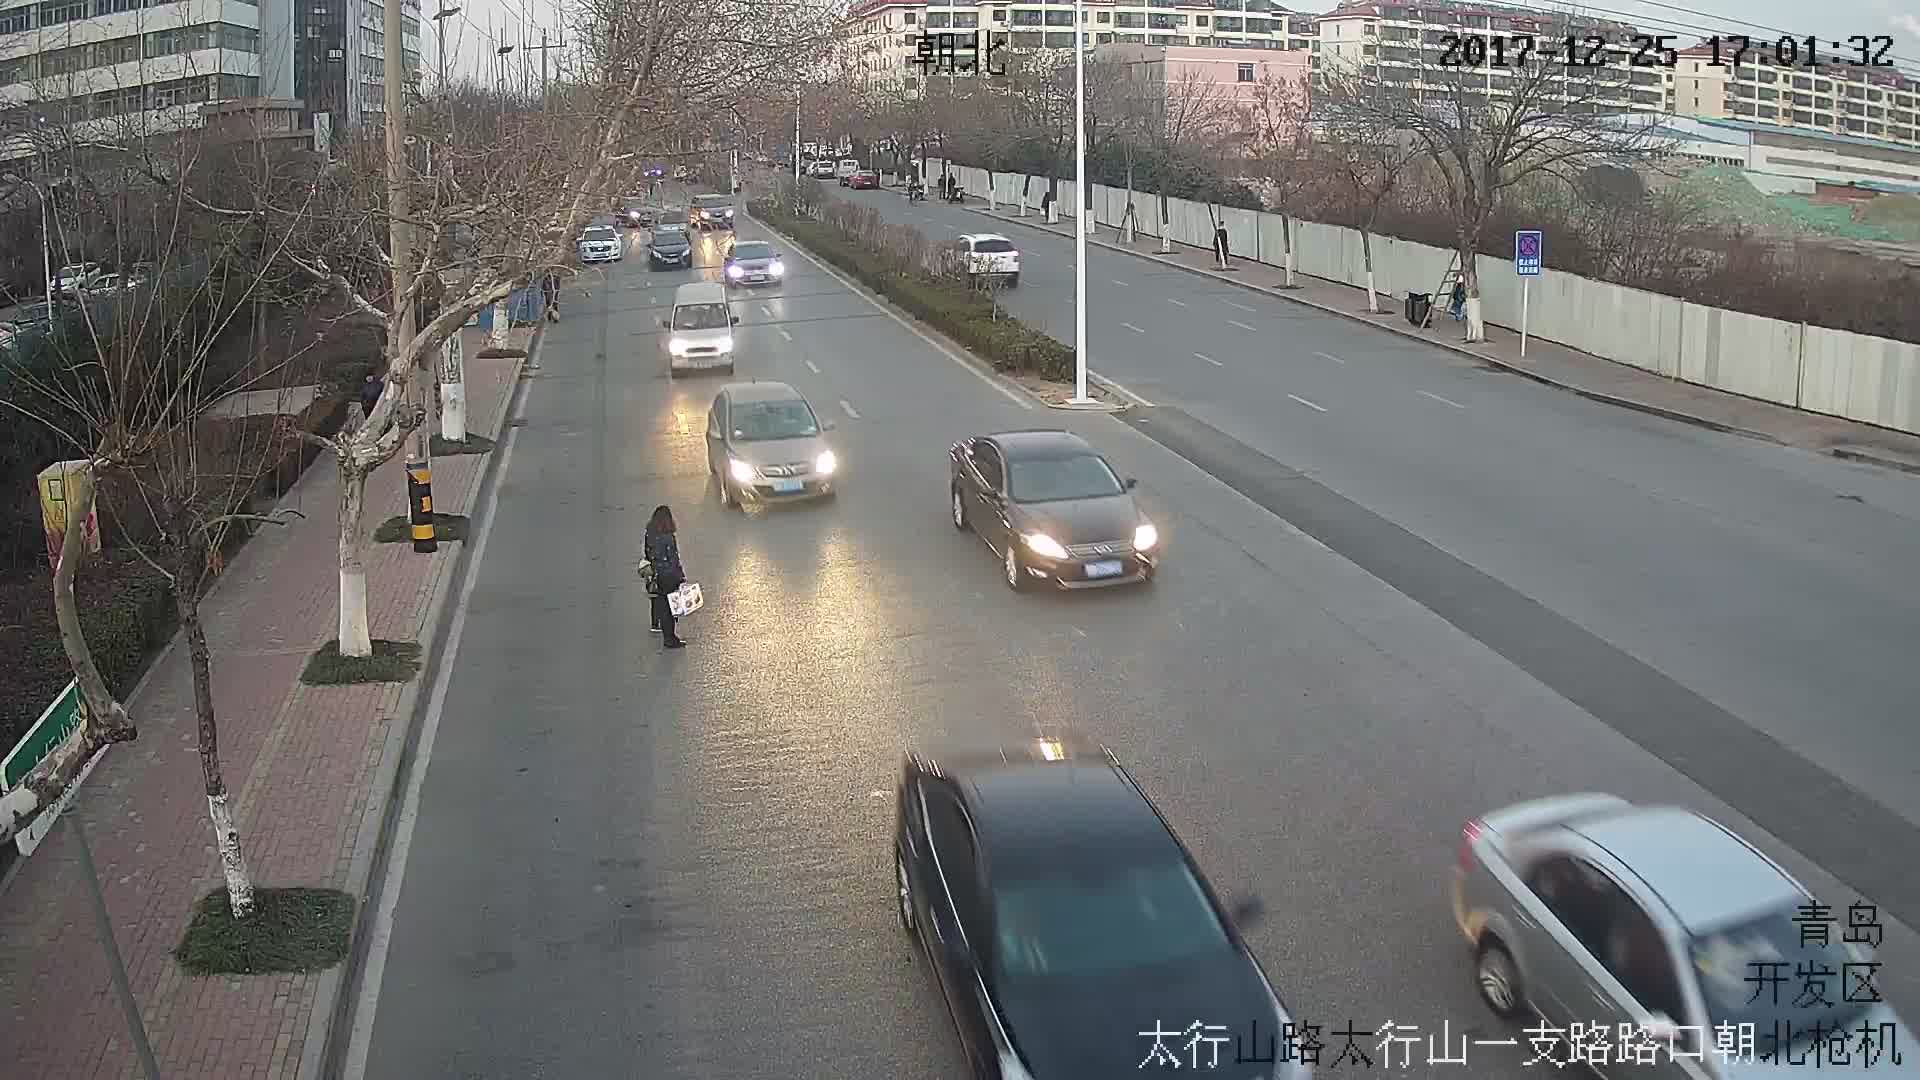car: (953, 430, 1163, 592), (710, 385, 841, 509), (663, 285, 735, 375), (952, 237, 1020, 287), (727, 242, 785, 288), (649, 228, 691, 267), (581, 227, 621, 264)
person: (639, 505, 698, 652)
